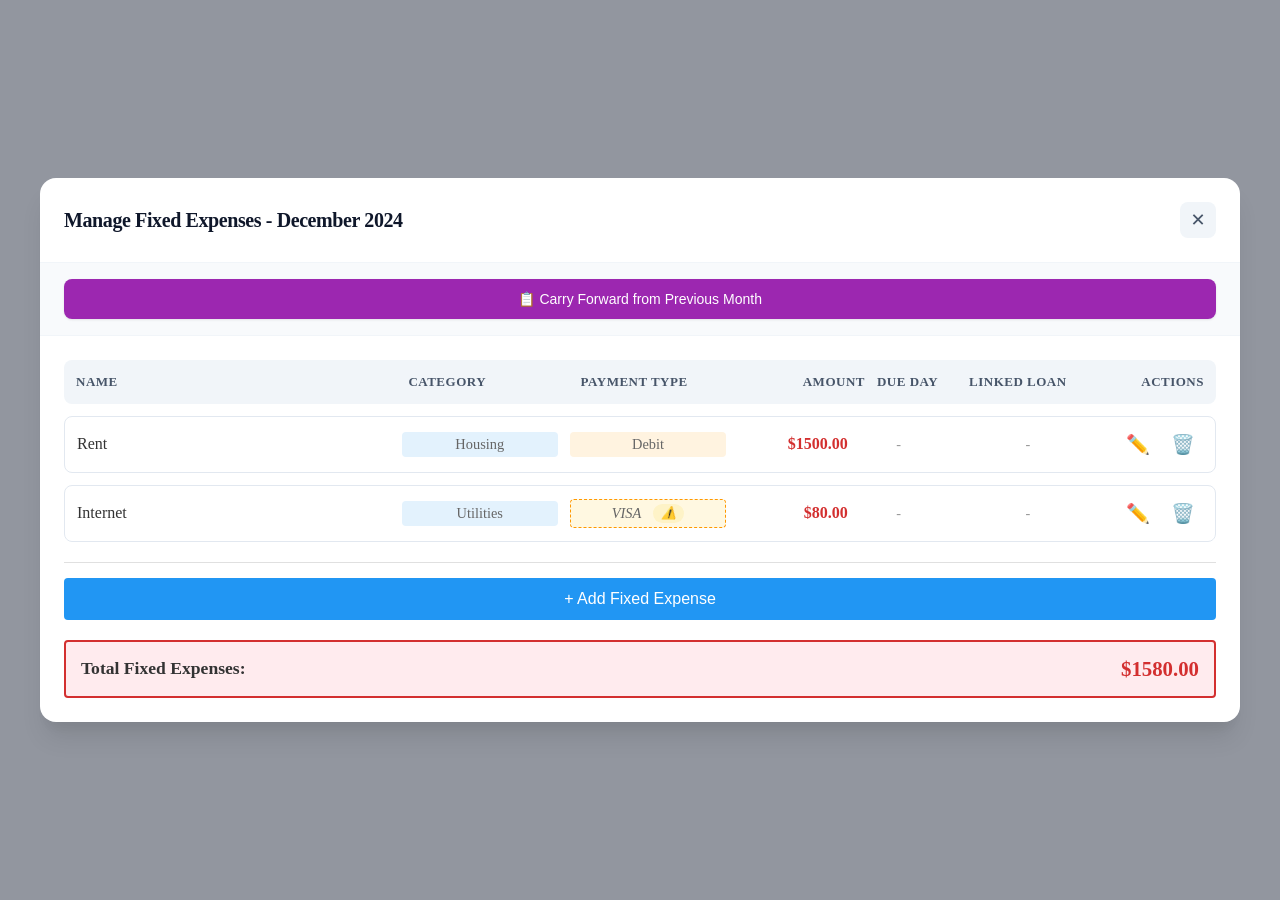
FixedExpensesModal › Edit Fixed Expense › shows edit form when edit button is clicked
Expected: the text "Rent" is shown, left=77, top=435, right=107, bottom=452
Step 1. Click the button titled "Edit" in the row of "1500.00" → point(1138, 444), box left=1118, top=429, right=1158, bottom=460
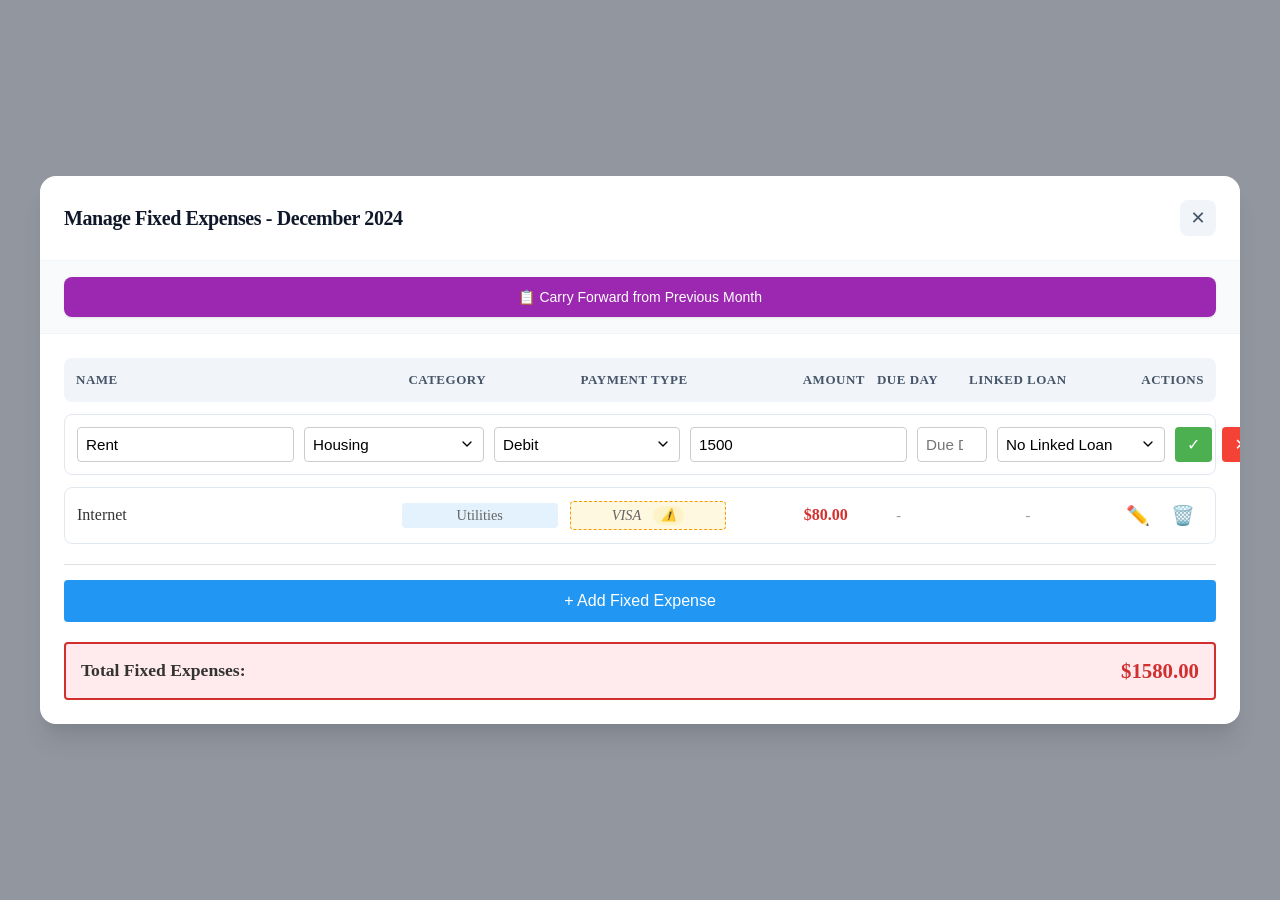
Expected: the field showing "Rent" is shown, left=77, top=427, right=294, bottom=462
Expected: the number field showing "1500" is shown, left=690, top=427, right=907, bottom=462
